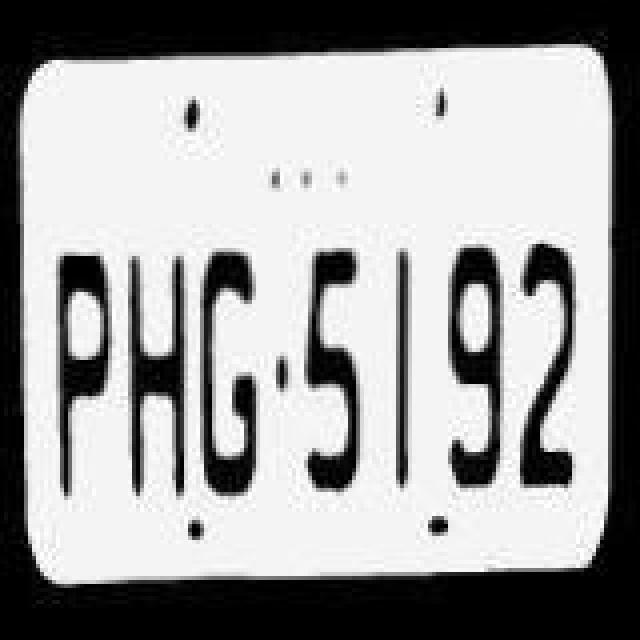1: (370, 240, 426, 500)
2: (516, 242, 584, 510)
5: (288, 244, 364, 496)
9: (438, 236, 510, 504)
G: (202, 222, 274, 502)
H: (122, 234, 194, 502)
P: (40, 234, 116, 502)
